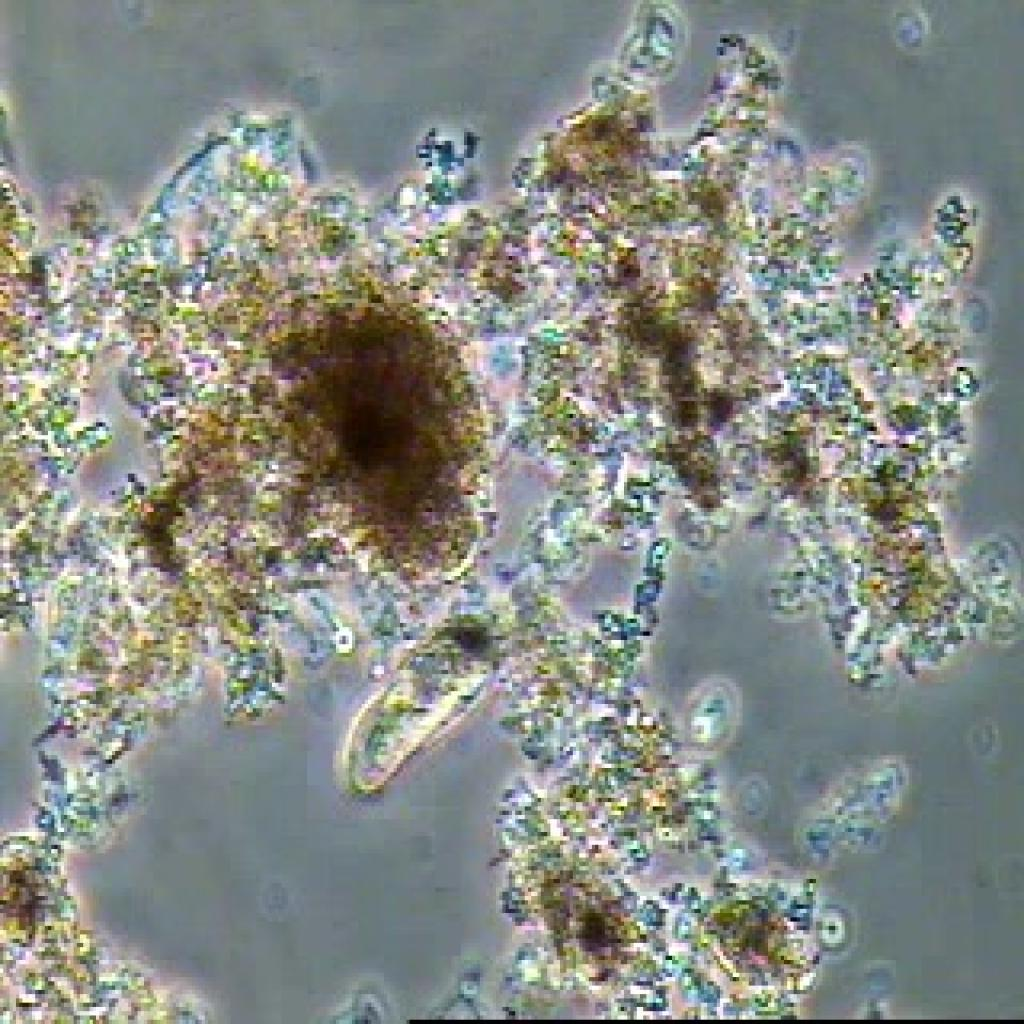Paramecium: (322, 610, 500, 807)
